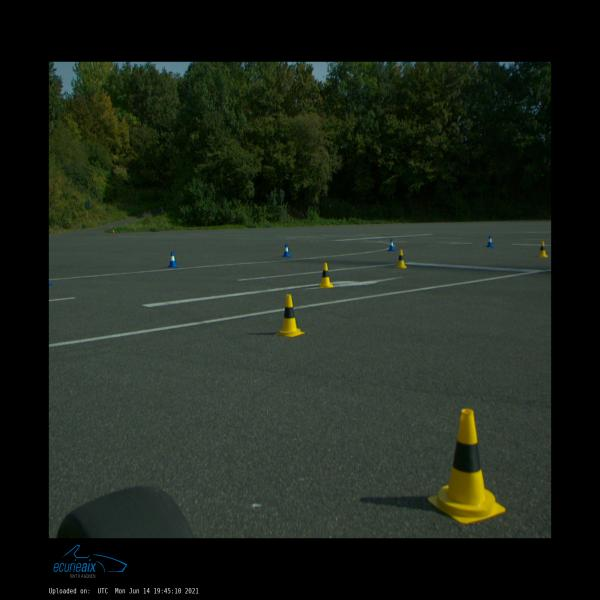blue_cone: (168, 251, 178, 268), (282, 243, 291, 258), (486, 235, 494, 247), (388, 238, 395, 251)
yellow_cone: (428, 409, 506, 525), (275, 294, 305, 337), (319, 263, 333, 288), (395, 249, 407, 269), (538, 241, 548, 257)
